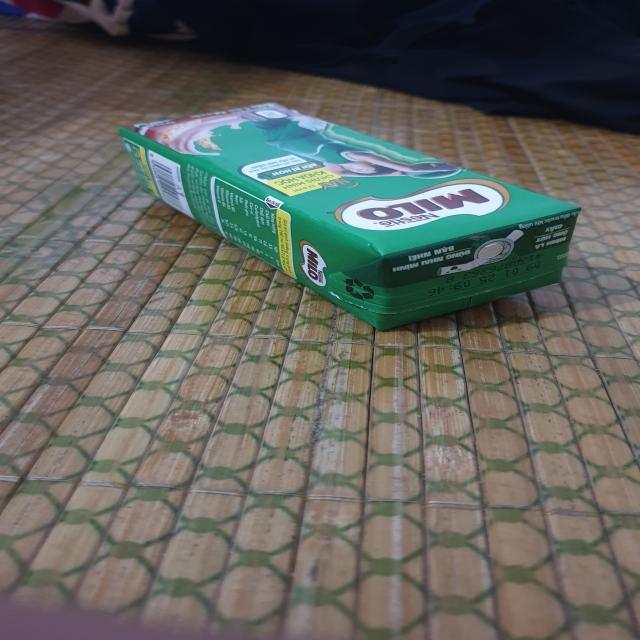Milo: (122, 103, 585, 330)
